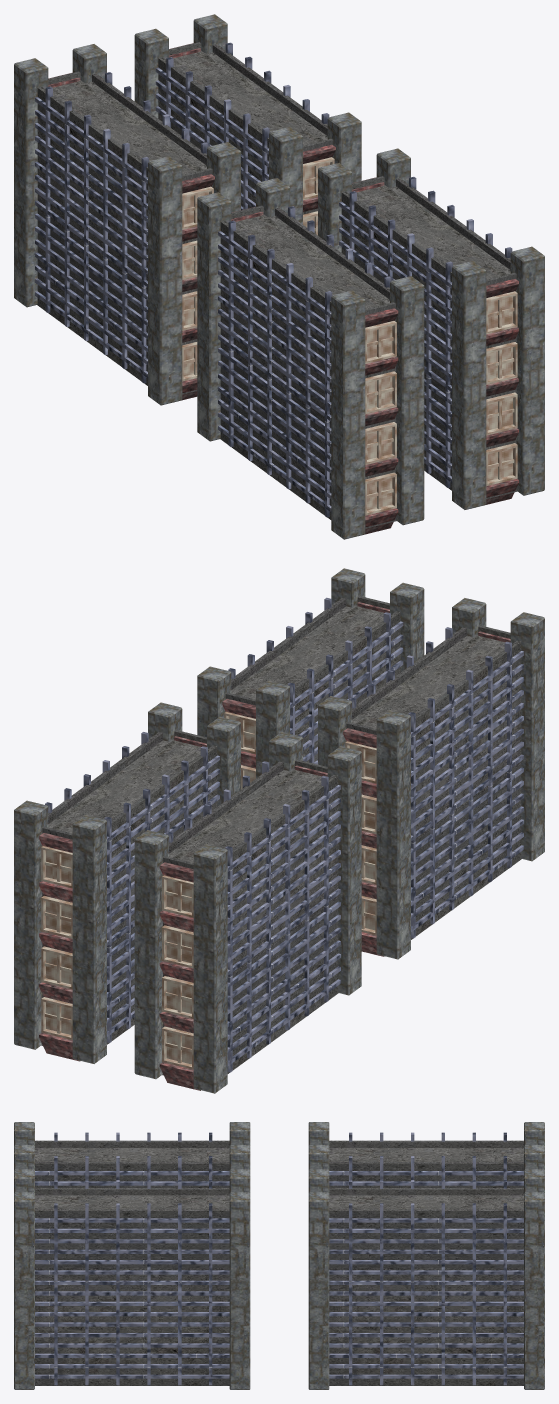
The model's file is Brutalist_Apartment_2.fbx.
3 renders of one model, top to bottom at view 1: azimuth 30°, elevation 25°; view 2: azimuth 150°, elevation 25°; view 3: azimuth 270°, elevation 25°, orthographic. The views are drawn at different scales.
Visible parts, largest first — view 1: polySurface524; view 2: polySurface524; view 3: polySurface524.
Boxes of the visible parts, x1,y1,x2,y2 form: polySurface524: (14,14,544,539); polySurface524: (14,568,544,1093); polySurface524: (14,1122,544,1389).
Bounding box in the file's own units: 1185 × 1374 × 3355.
